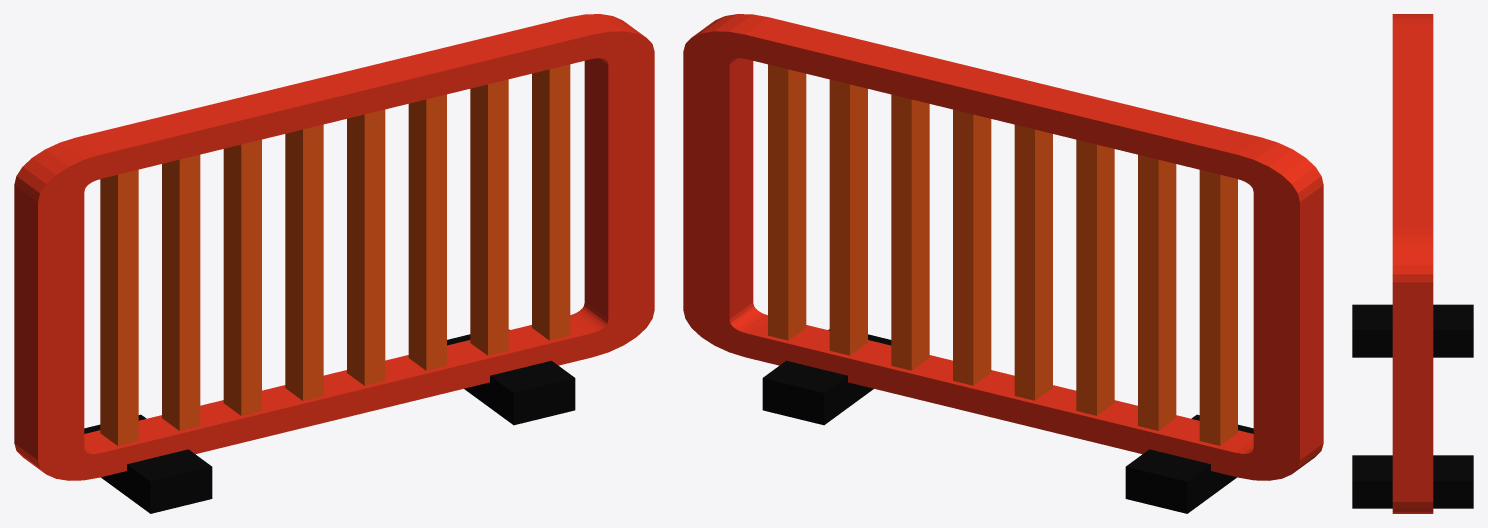
File: barrier.glb
The picture shows the model from 3 angles, left to right: view 1: azimuth 30°, elevation 25°; view 2: azimuth 150°, elevation 25°; view 3: azimuth 270°, elevation 25°; orthographic projection. The views are drawn at different scales.
Parts seen in each view (by area): view 1: Frame; view 2: Frame; view 3: Frame.
Boxes of the visible parts, box(x1,y1,x2,y2) form: Frame: box(14, 14, 654, 513); Frame: box(683, 14, 1323, 513); Frame: box(1352, 14, 1473, 513).
Size of the model in its own units: 3 by 1.62 by 0.6.
